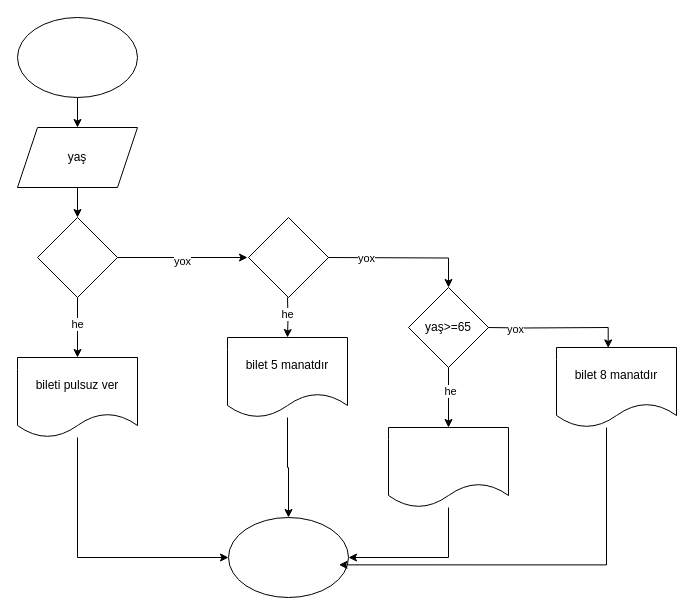
This 694x615 diagram has some shape labels left out. Each missing label, with the centre of its shape:
"bilet 4 manatdır" belongs at (x=448, y=467).
"telebedir?" belongs at (x=288, y=257).
"yaş<=7" belongs at (x=77, y=257).
